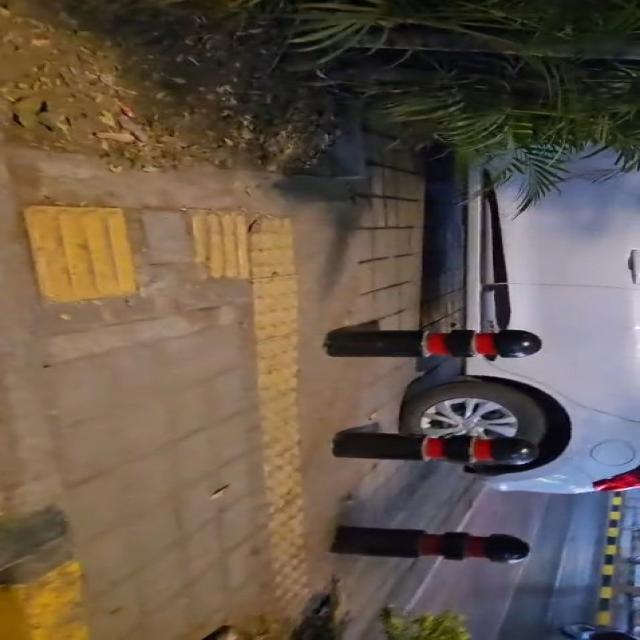obstacle: (333, 430, 538, 465), (331, 527, 530, 563), (325, 330, 542, 357)
vehical: (399, 156, 639, 493)
